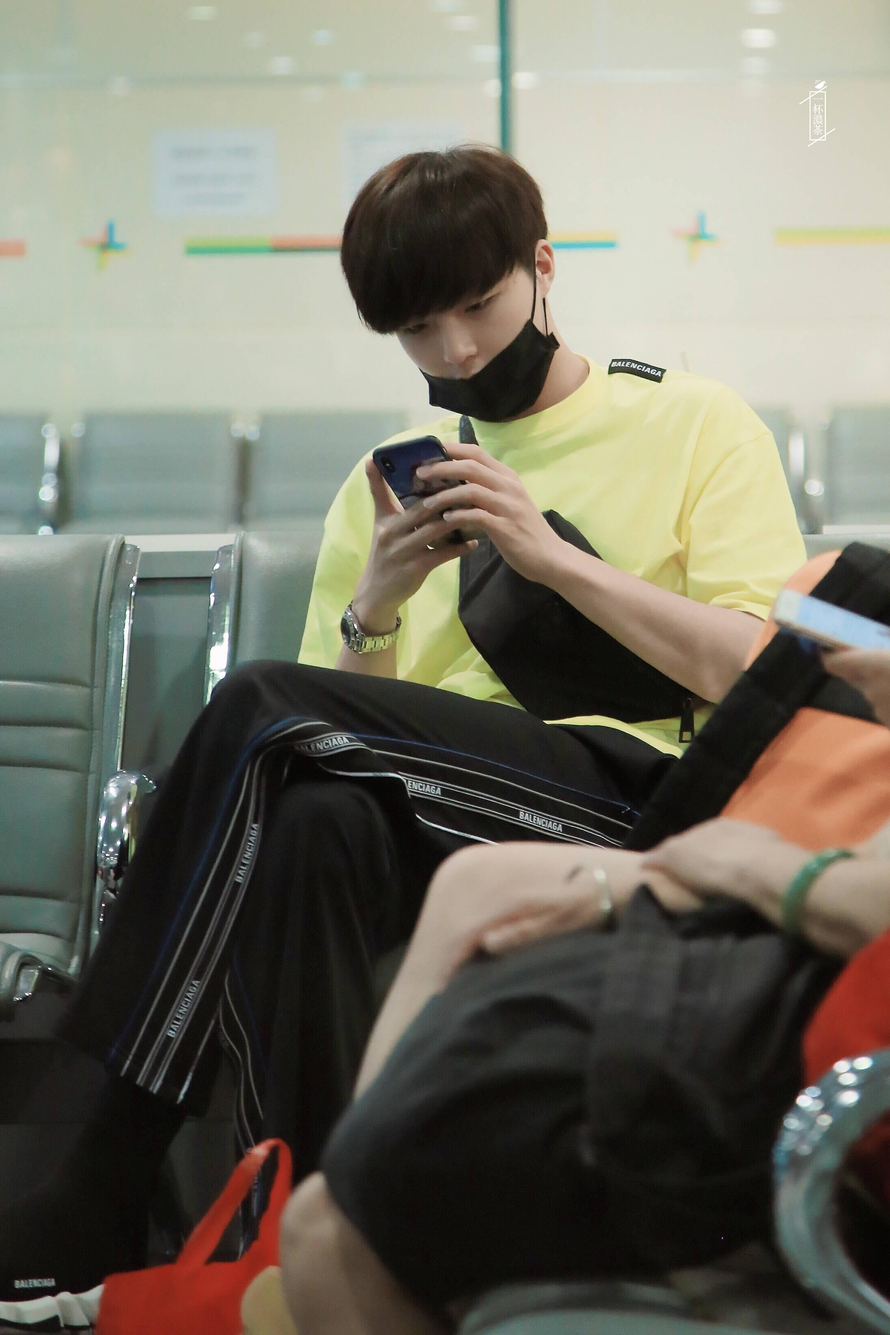WRONG: (395, 266, 549, 417)
